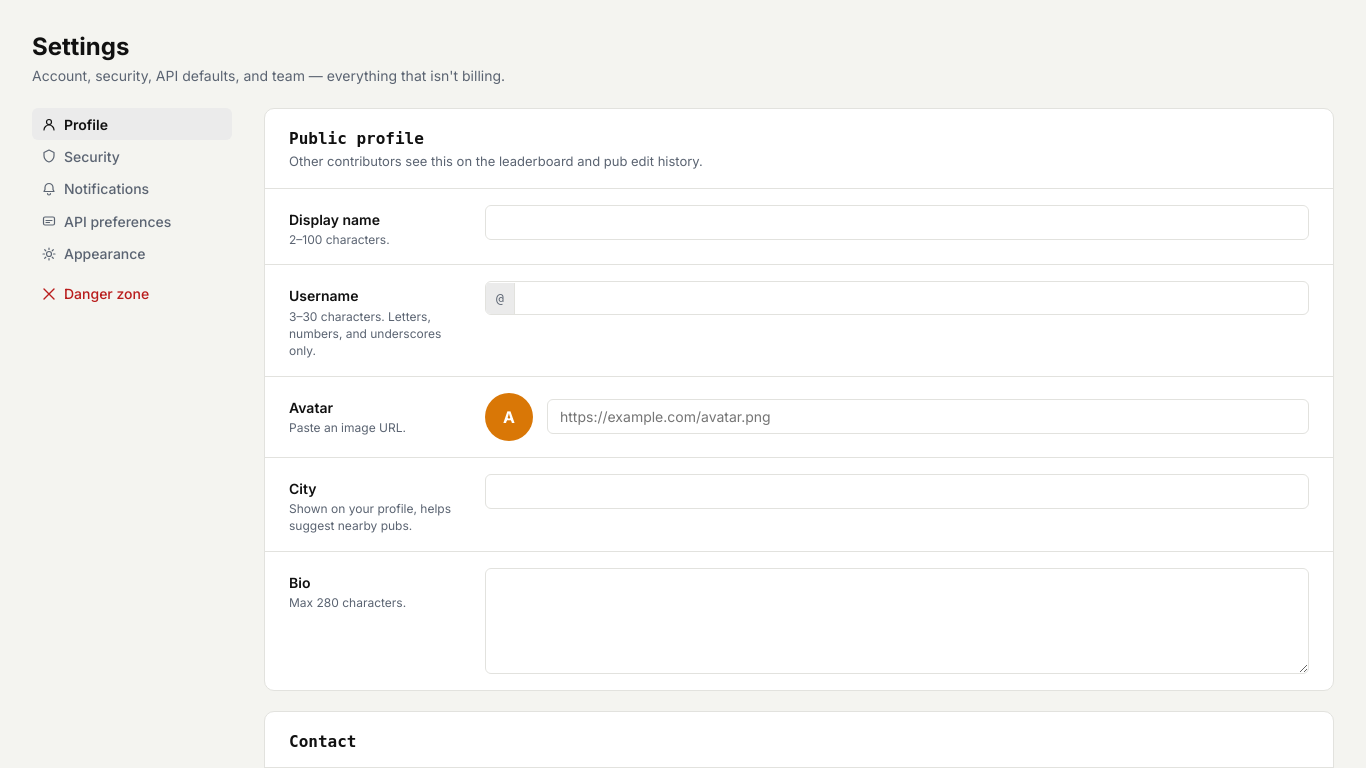
Scenario: SettingsPage › shows 'Incorrect password.' for a 401 with 'Invalid credentials'
Click the button "Danger zone".
click(132, 294)  # box [32, 278, 232, 310]
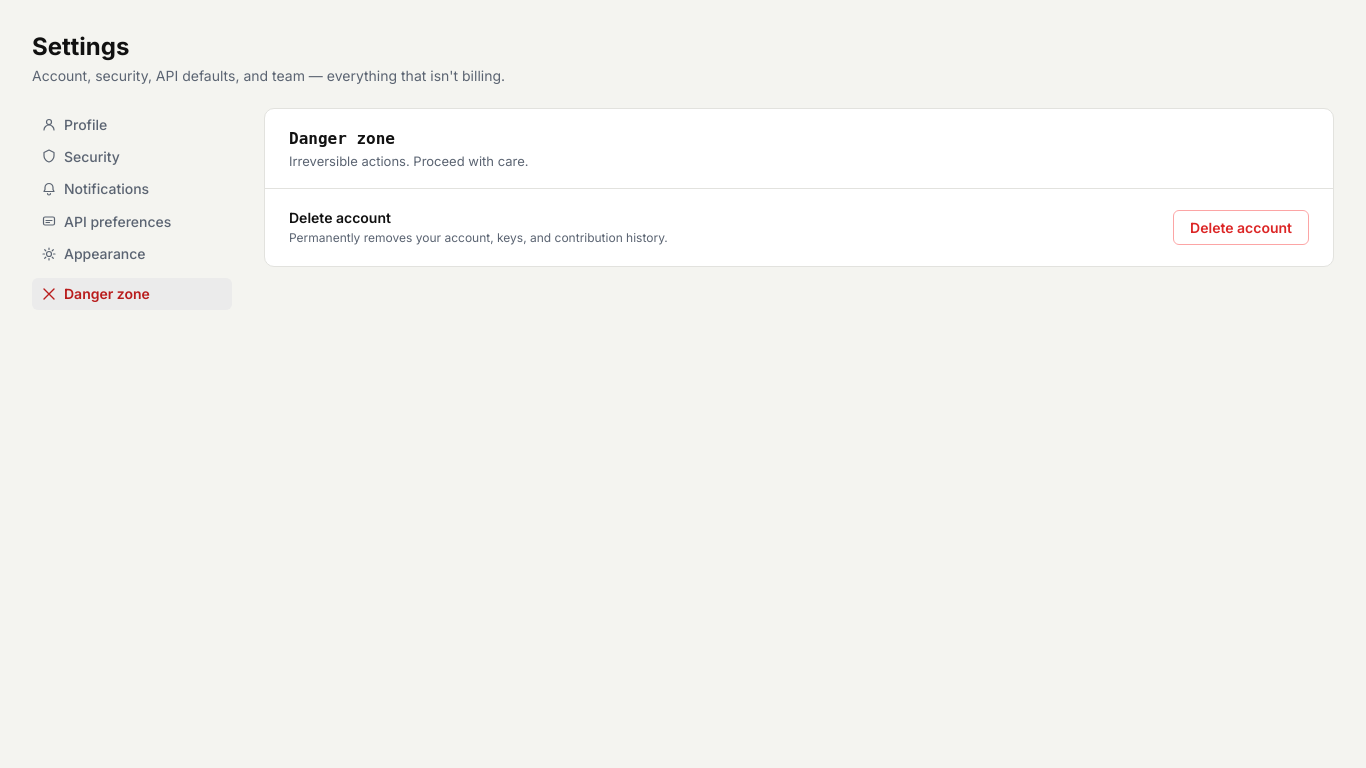
Click the button "Delete account".
click(1241, 228)  # box [1173, 210, 1309, 245]
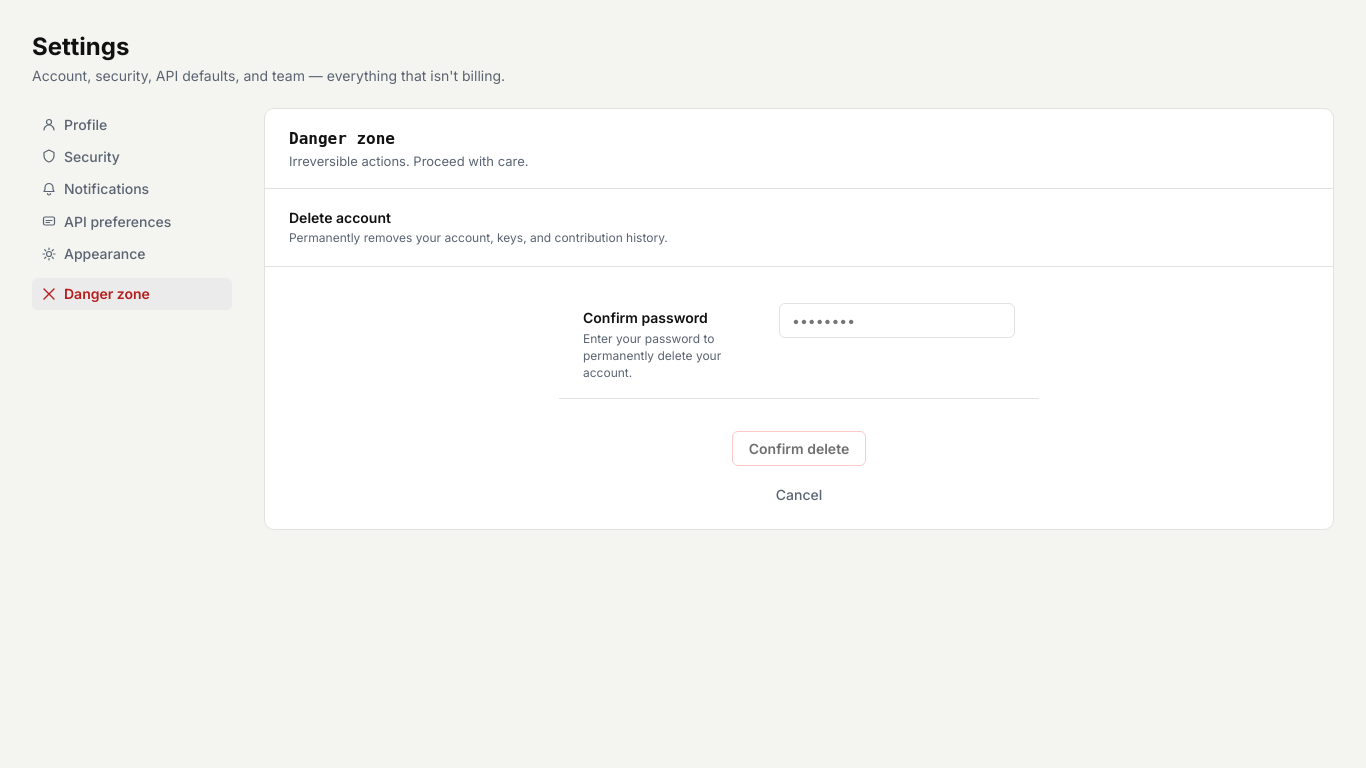
Type "wrong-password" into the password field with placeholder "••••••••".
click(897, 321); type("wrong-password")  # box [779, 304, 1015, 338]
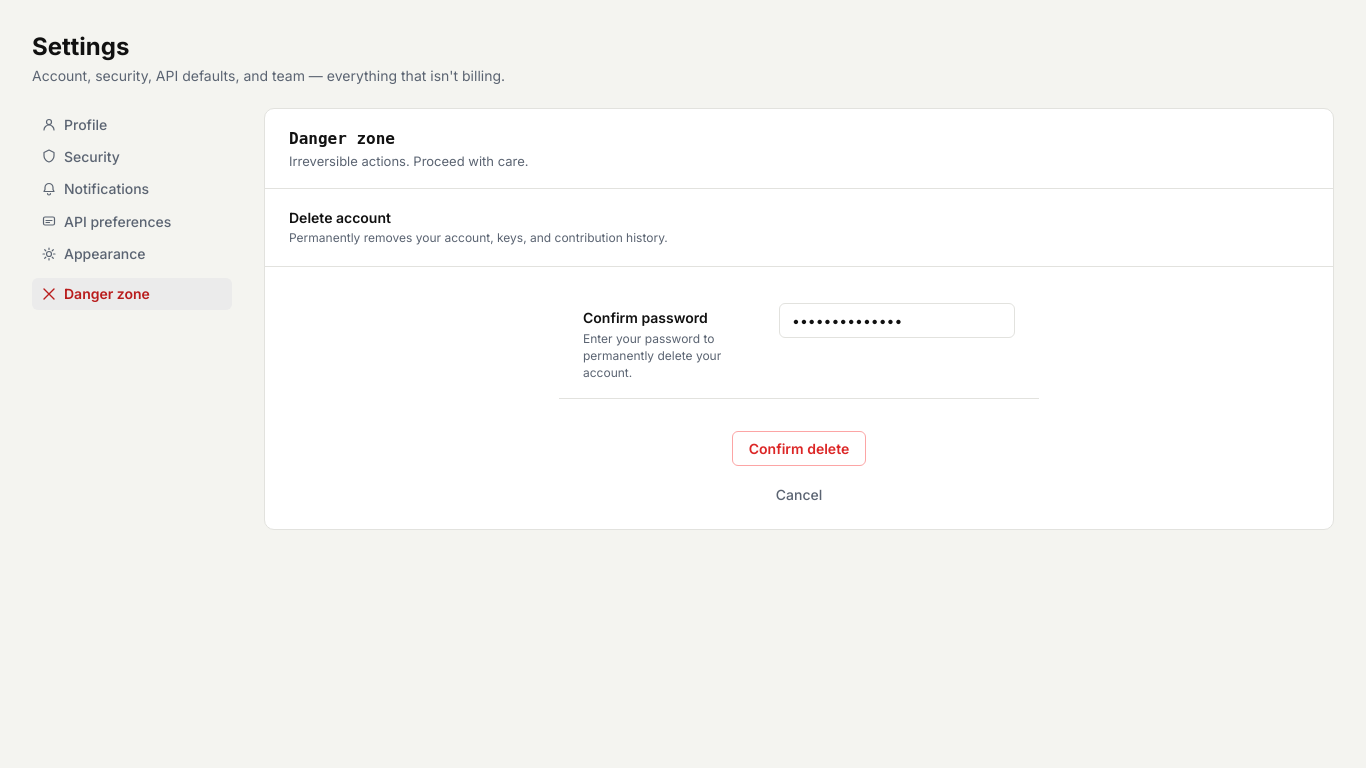
Submit the form named "Confirm delete", box [559, 288, 1039, 509]
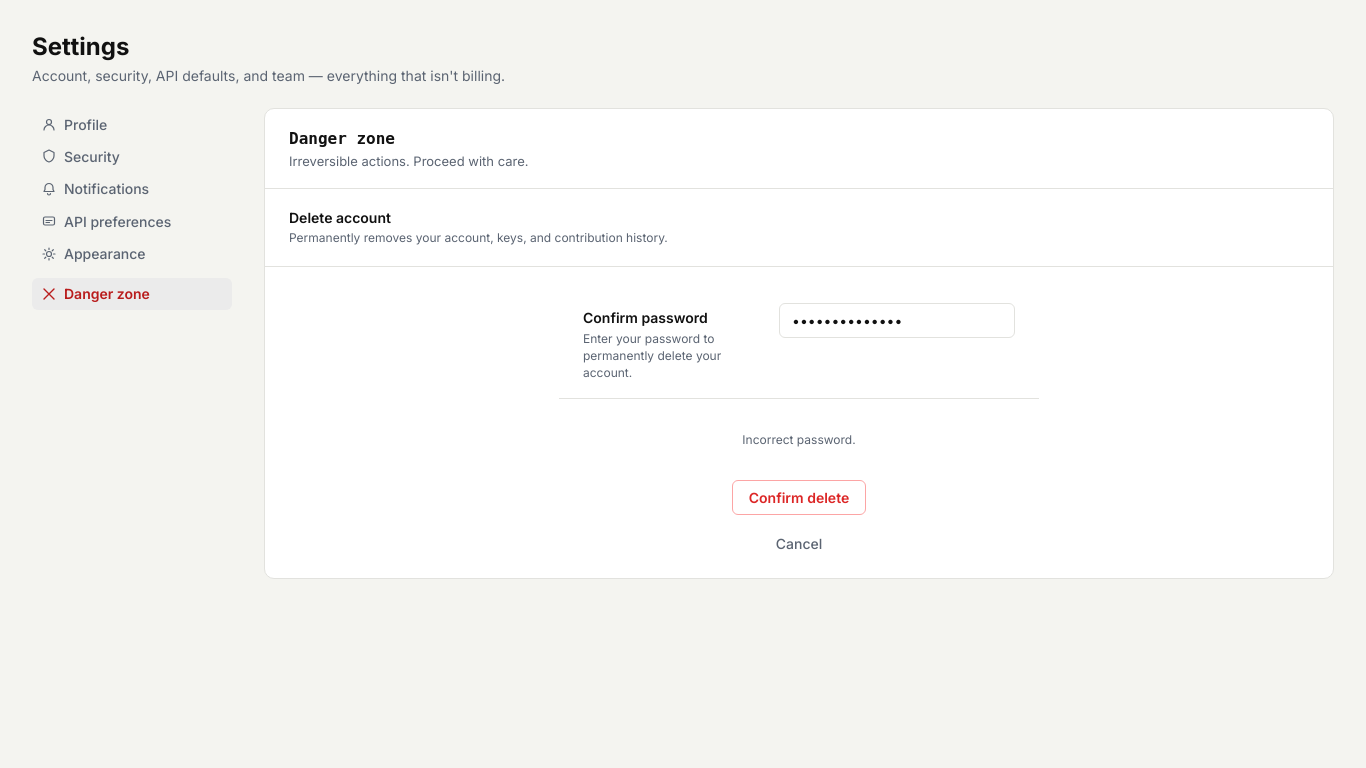
Expected: the text "Incorrect password." is shown, [742, 431, 856, 448]
